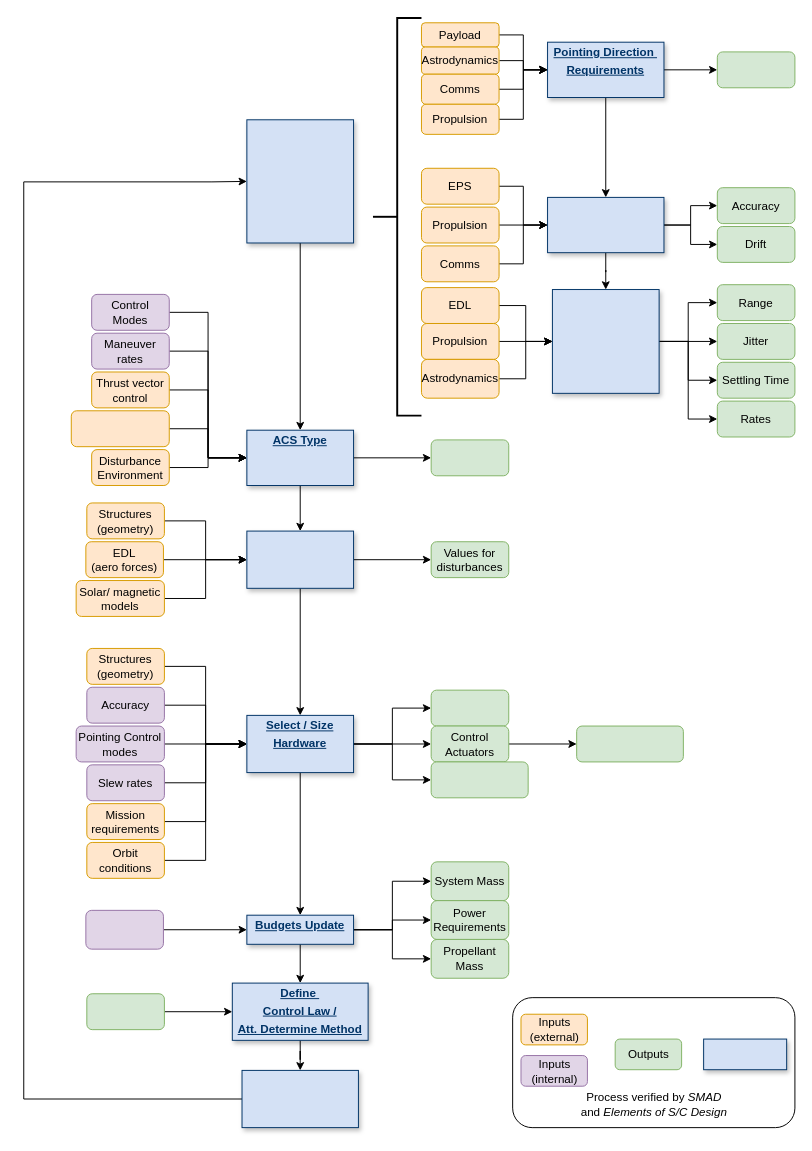
The diagram is 812 pixels wide and 1151 high, and some of its shapes have lost their labels. The shapes that lost their labels are listed below. From the top down, each one's centre as x and y in pixels, then its label:
At [755,69]: "All Necessary Contol Modes".
At [300,182]: "Determine Requirements - Accuracy - Range - Jitter - Drift - Settling Time".
At [606,226]: "Pointing Accuracy Requirements (knowledge + control)".
At [606,342]: "Maneuver Requirements - angles - durations - rates - frequency".
At [119,428]: "Allowable error for dV maneuvers".
At [469,457]: "Method of Stabilization".
At [300,560]: "Quantify Disturbance Torques".
At [469,707]: "Sensor Suite".
At [629,743]: "Acuator sizing".
At [479,779]: "Data Processing requirements".
At [124,929]: "Hardware Selection".
At [125,1011]: "All of above".
At [745,1055]: "Design Step".
At [300,1100]: "Evaluate Requirement Fit - Document Iteration".
